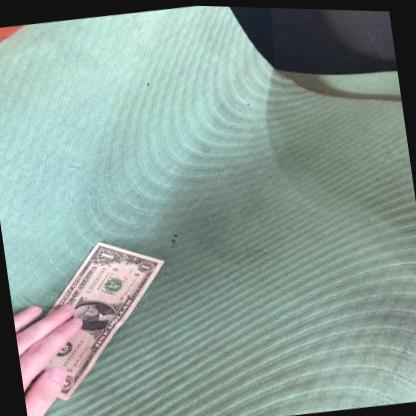one-front: (18, 240, 166, 401)
